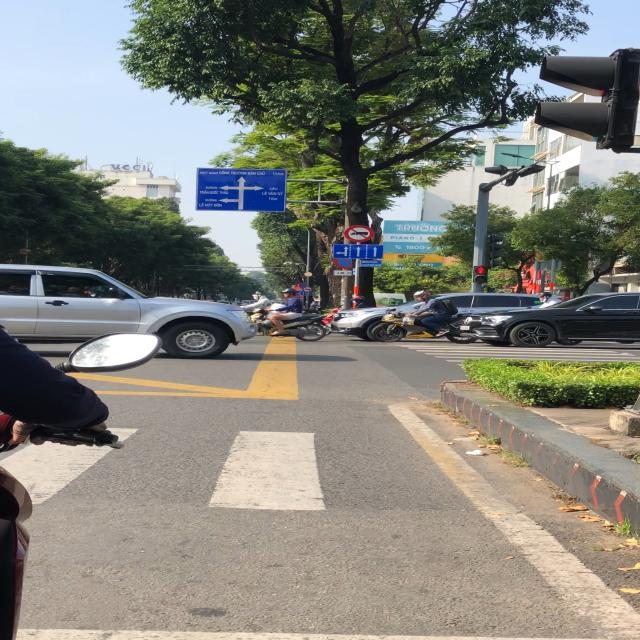Bien bao cam xe so-mi ro-mooc: (342, 222, 378, 244)
